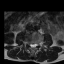CCS_normal: (32, 41, 34, 50)
LFS_normal: (36, 41, 38, 48)
LLS_normal: (34, 41, 36, 49)
RFS_normal: (27, 40, 30, 46)
RLS_normal: (30, 41, 32, 49)
